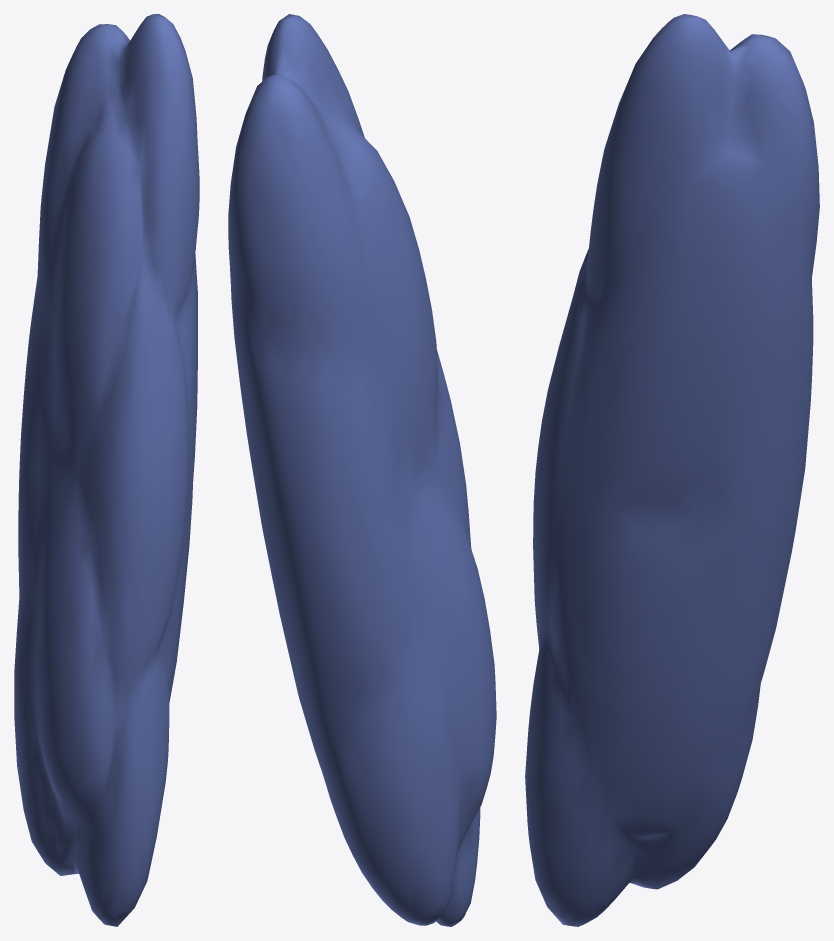
File: Nube.obj
3 views of the same model, side by side, from view 1: azimuth 30°, elevation 25°; view 2: azimuth 150°, elevation 25°; view 3: azimuth 270°, elevation 25° (orthographic). The views are drawn at different scales.
Visible parts, largest first — view 1: Nube:polygon0; view 2: Nube:polygon0; view 3: Nube:polygon0.
Boxes of the visible parts, x1,y1,x2,y2 form: Nube:polygon0: [14, 14, 199, 926]; Nube:polygon0: [228, 14, 496, 926]; Nube:polygon0: [525, 14, 819, 926].
Bounding box in the file's own units: 6.84 × 31.89 × 8.84.
Materials: 1 (1 with a texture image).
